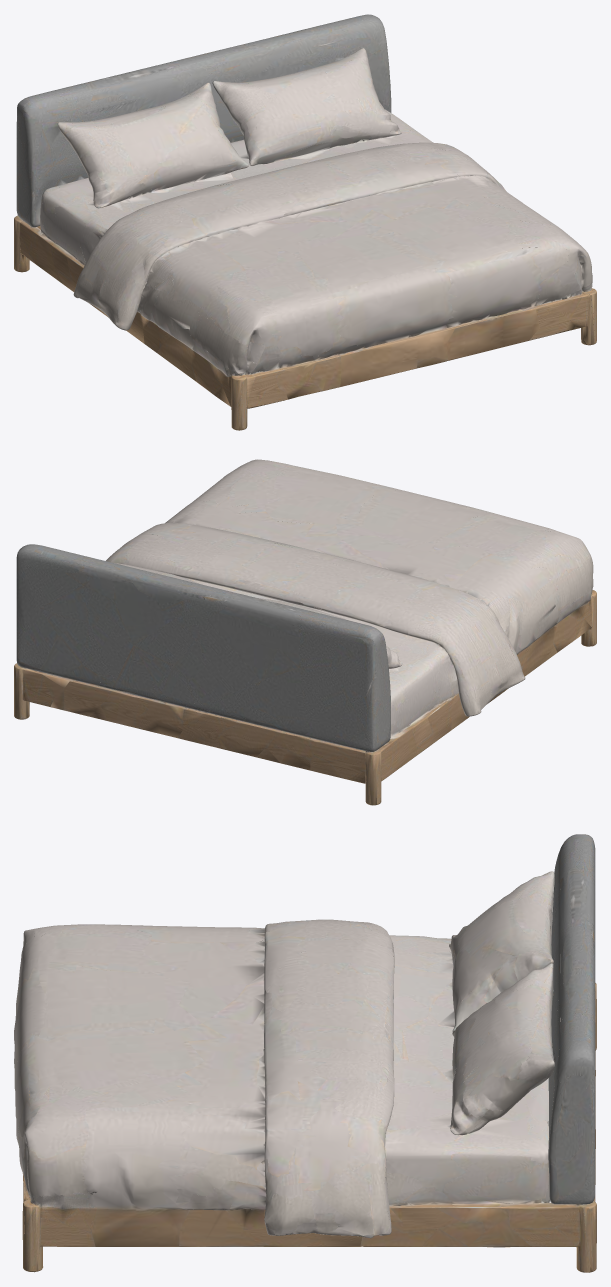
The model's file is modern-bed.glb.
3 views of the same model, one above another, from view 1: azimuth 30°, elevation 25°; view 2: azimuth 150°, elevation 25°; view 3: azimuth 270°, elevation 25° (orthographic). The views are drawn at different scales.
Parts seen in each view (by area): view 1: Mesh_0; view 2: Mesh_0; view 3: Mesh_0.
Part boxes in pixels (left/top/right/bottom): Mesh_0: left=14, top=14, right=596, bottom=430; Mesh_0: left=14, top=459, right=596, bottom=805; Mesh_0: left=14, top=834, right=596, bottom=1272.
Bounding box in the file's own units: 1.9 × 0.7648 × 1.84.
Materials: 1 (1 with a texture image).
